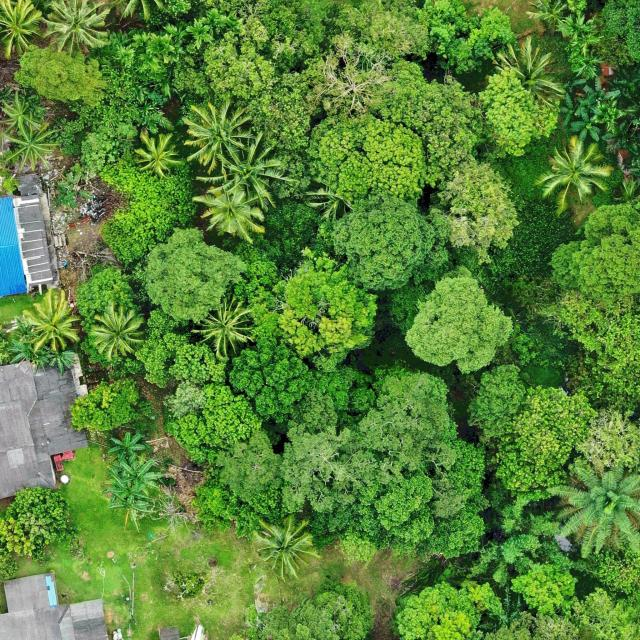Tree: (327, 369, 491, 557), (376, 62, 481, 186), (326, 193, 451, 294), (404, 264, 516, 374), (537, 290, 640, 404), (306, 111, 428, 206), (282, 256, 379, 372), (494, 383, 594, 491), (142, 225, 247, 327), (98, 154, 195, 263), (547, 458, 640, 558), (548, 202, 640, 303), (434, 156, 522, 258), (280, 418, 373, 512), (242, 579, 372, 640), (414, 0, 516, 74), (136, 308, 228, 390), (395, 576, 510, 640), (286, 358, 378, 438), (476, 72, 560, 159), (227, 336, 311, 420), (165, 384, 262, 456), (533, 136, 613, 218), (14, 42, 107, 106), (179, 96, 253, 176), (490, 36, 565, 106), (465, 361, 530, 441), (2, 484, 71, 558), (216, 432, 284, 500), (253, 513, 315, 581), (192, 187, 268, 242), (22, 287, 82, 353), (70, 378, 140, 433), (576, 407, 640, 467), (42, 0, 110, 56), (100, 464, 152, 534), (76, 270, 136, 330), (198, 296, 254, 360), (90, 302, 146, 360), (2, 120, 58, 172), (132, 131, 185, 180), (0, 0, 43, 58), (120, 455, 164, 490), (54, 172, 94, 210), (164, 382, 206, 418), (584, 78, 619, 114), (568, 106, 602, 141), (108, 432, 144, 460), (6, 338, 40, 366), (24, 345, 54, 374), (48, 348, 76, 376), (559, 94, 583, 126)
